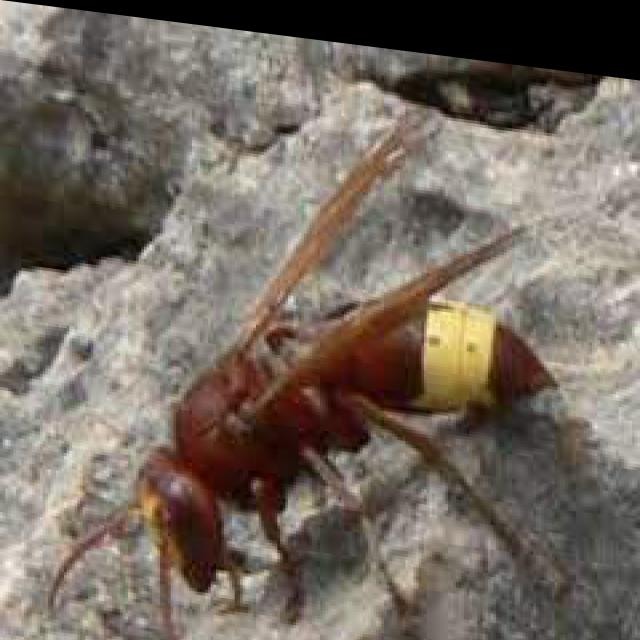Vespa Orientalis: (33, 42, 577, 639)
